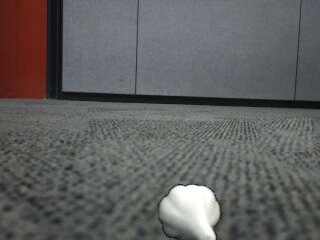Garlic: (155, 182, 224, 240)
